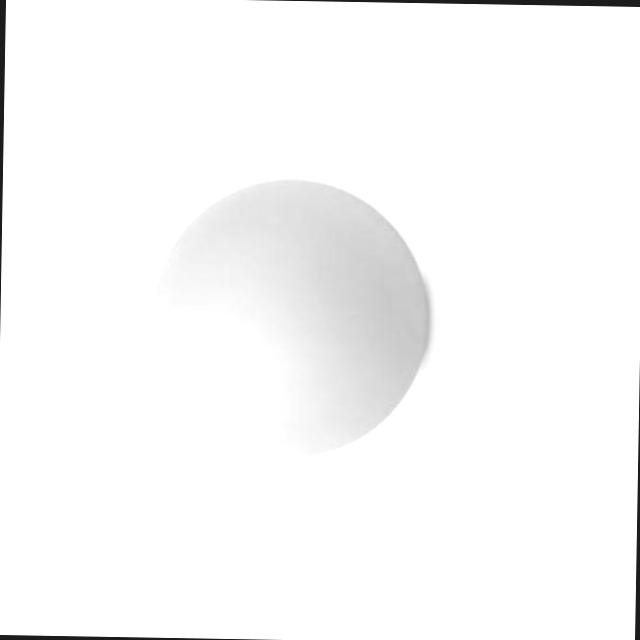ping-pong-ball: (146, 174, 432, 460)
